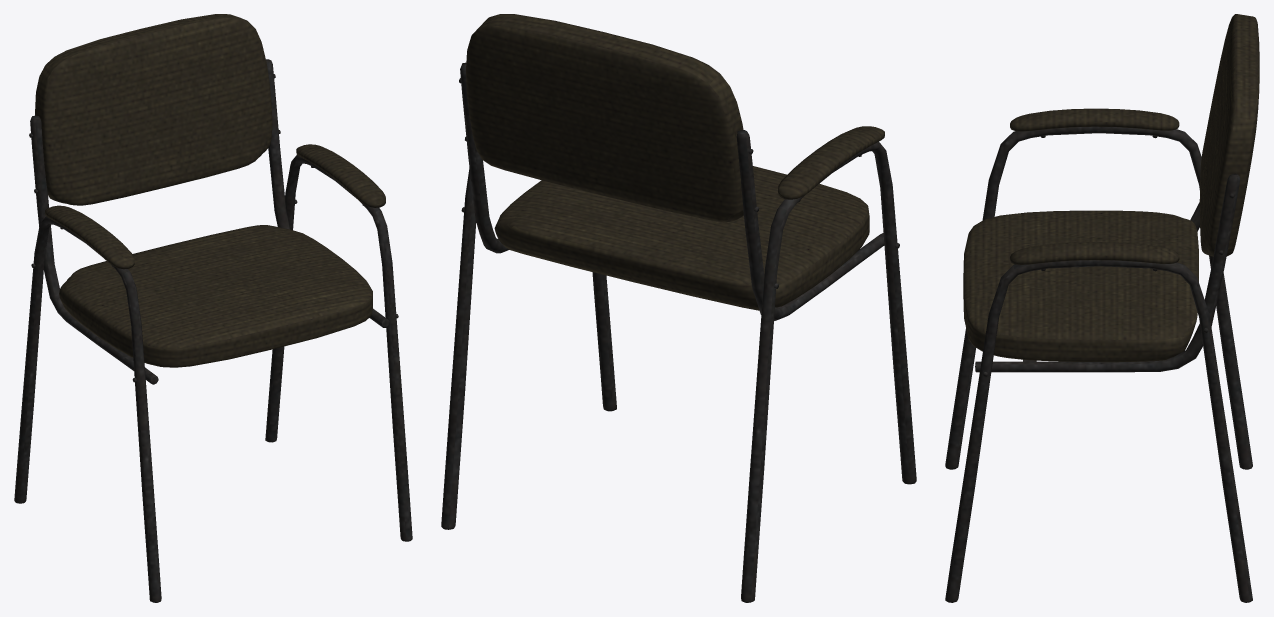
File: chair_2.fbx
3 renders of one model, left to right at view 1: azimuth 30°, elevation 25°; view 2: azimuth 150°, elevation 25°; view 3: azimuth 270°, elevation 25°, orthographic. The views are drawn at different scales.
Parts seen in each view (by area): view 1: chair_2; view 2: chair_2; view 3: chair_2.
Boxes of the visible parts, x1,y1,x2,y2 form: chair_2: [14, 14, 412, 602]; chair_2: [441, 14, 916, 602]; chair_2: [945, 14, 1259, 602].
Size of the model in its own units: 0.7744 by 0.7036 by 1.19.
